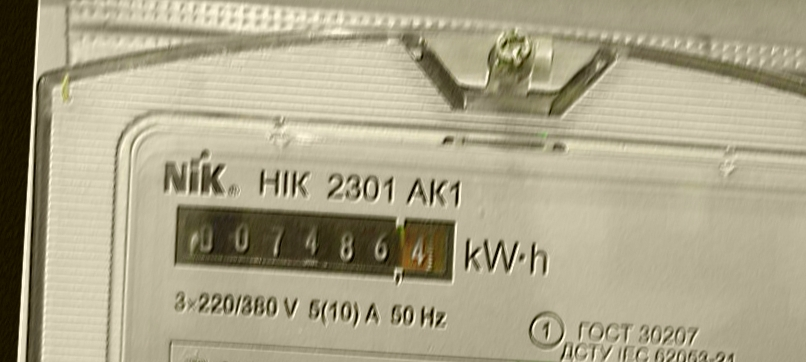0: (193, 220, 215, 255), (230, 220, 250, 254)
4: (299, 221, 319, 257), (407, 232, 426, 267)
6: (370, 230, 391, 263)
7: (262, 223, 287, 257)
8: (336, 229, 355, 265)
screen: (162, 193, 464, 294)
